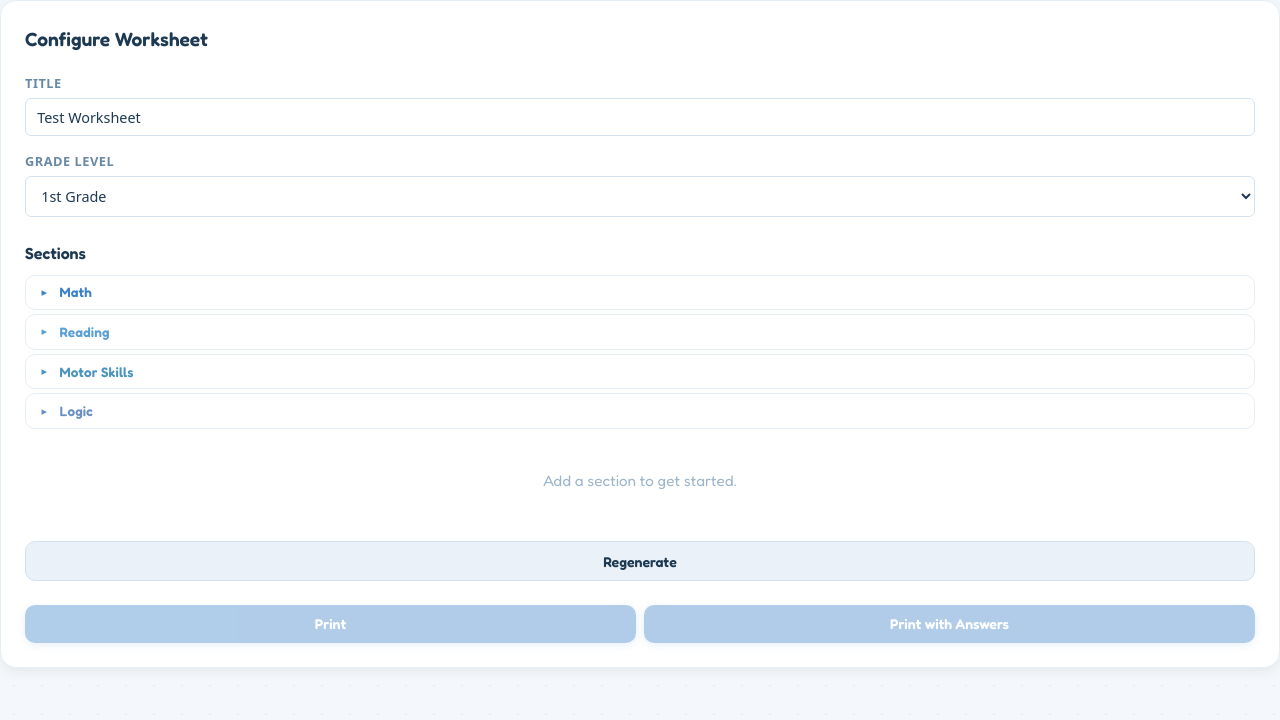
Scenario: ConfigPanel › shows all reading subtypes when Reading category is expanded
Click the text "Reading" at (85, 332), box [60,324,110,340]
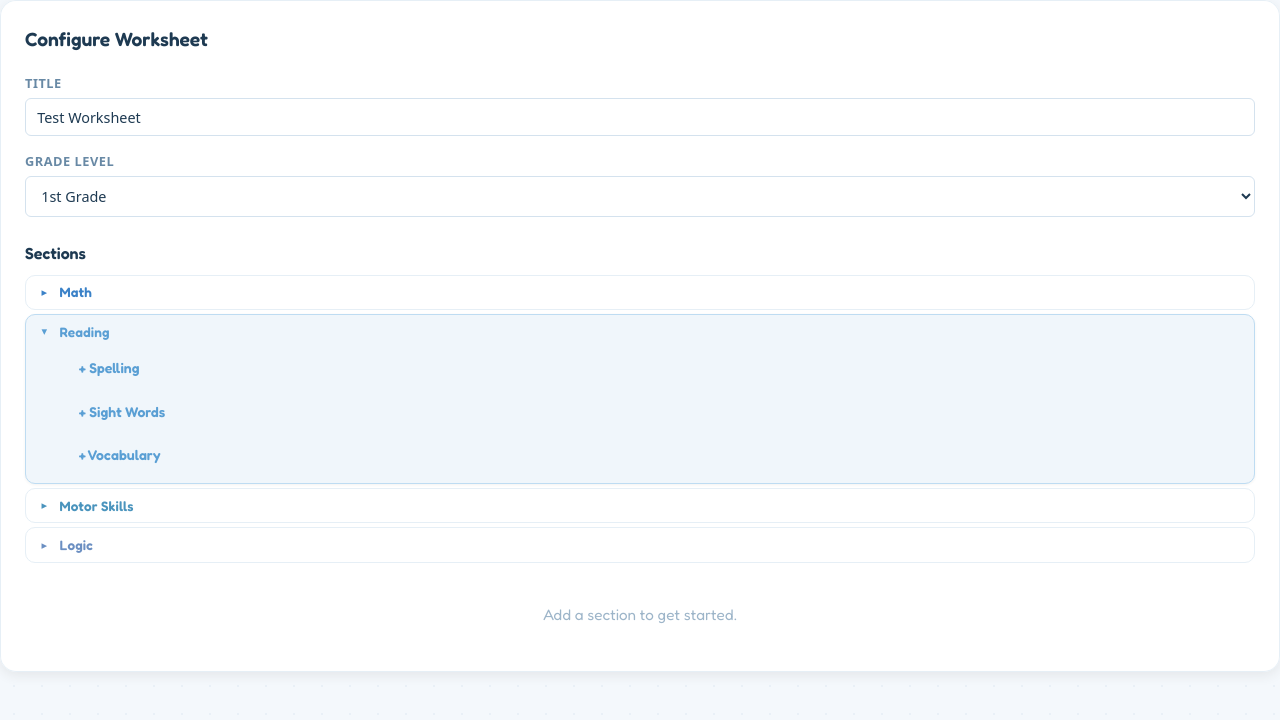
Check: the button "+ Spelling" is shown, box [60,349,159,386]
Check: the button "+ Sight Words" is shown, box [60,392,184,430]
Check: the button "+ Vocabulary" is shown, box [60,436,180,473]
